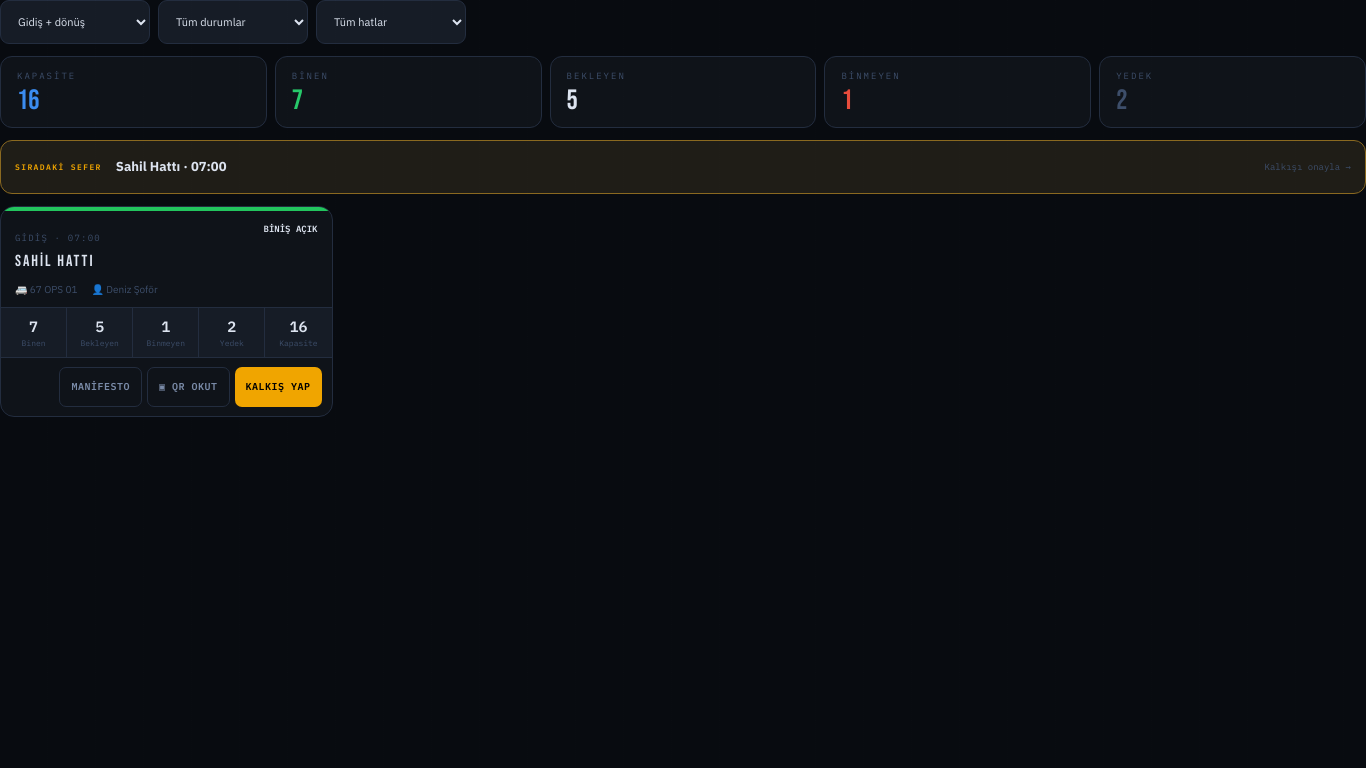
Test: Transport V2 operations UI › opens manifest and exposes one-tap assignment actions
Click the button "MANİFESTO": (101, 386) [60,366,142,406]
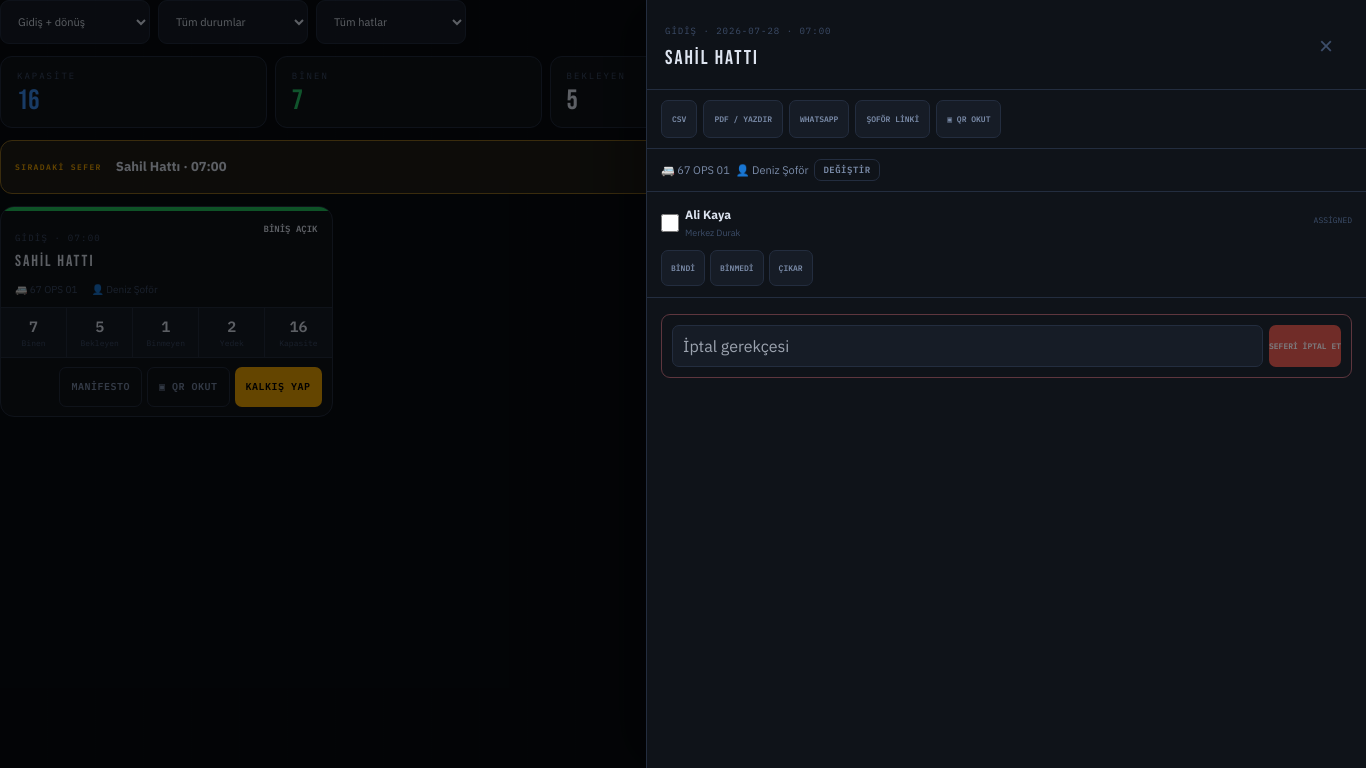
Now the dialog named "Sefer manifestosu" is shown, box [646,0,1365,767]
Now the text "Ali Kaya" is shown, box [685,207,731,222]
Now the button "BİNDİ" is shown, box [661,250,705,286]
